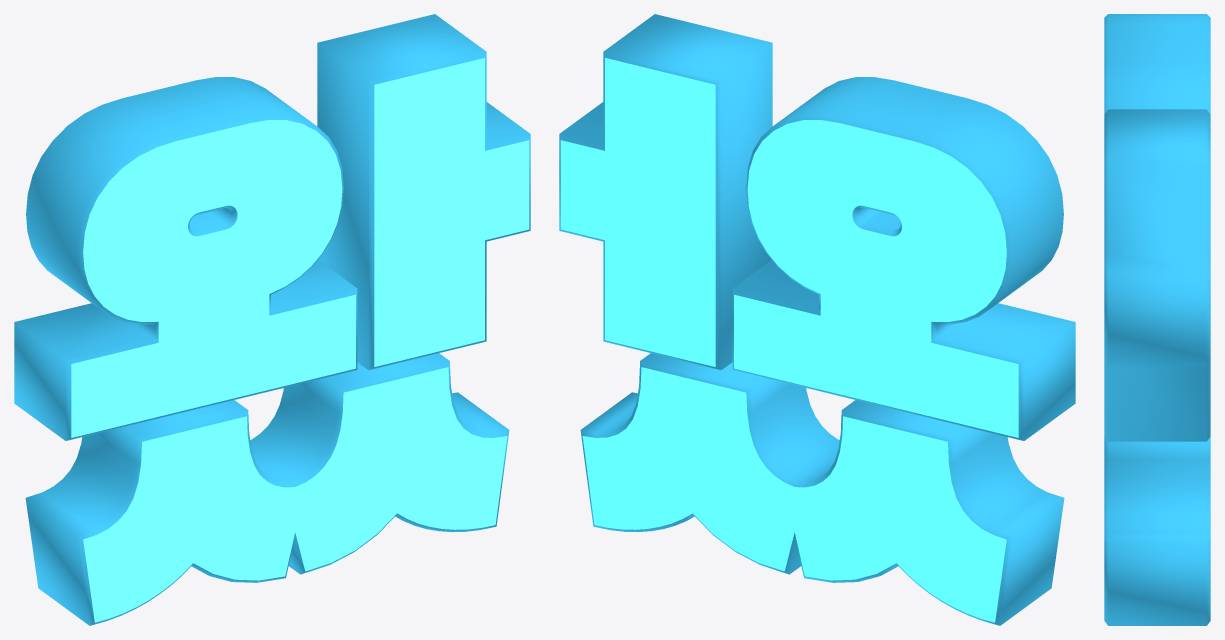
3 views of the same model, side by side, from view 1: azimuth 30°, elevation 25°; view 2: azimuth 150°, elevation 25°; view 3: azimuth 270°, elevation 25° (orthographic). The views are drawn at different scales.
Parts seen in each view (by area): view 1: glyph; view 2: glyph; view 3: glyph.
Part boxes in pixels (bbox=[...]): glyph: bbox=[14, 14, 530, 625]; glyph: bbox=[559, 14, 1075, 625]; glyph: bbox=[1104, 14, 1210, 625].
Bounding box in the file's own units: 0.0783 × 0.0768 × 0.0162.
